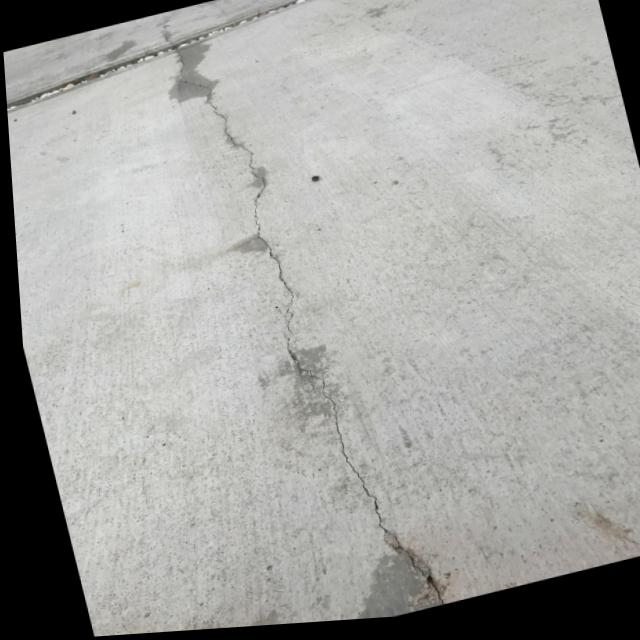Crack: (157, 15, 448, 632)
